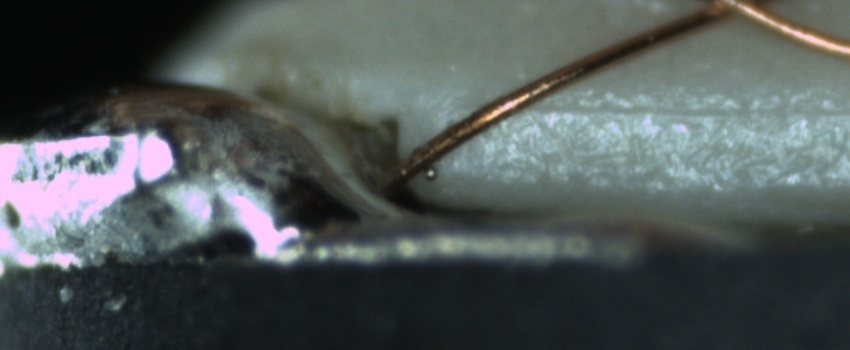CL: (690, 0, 794, 29)
DL: (523, 76, 849, 141)
